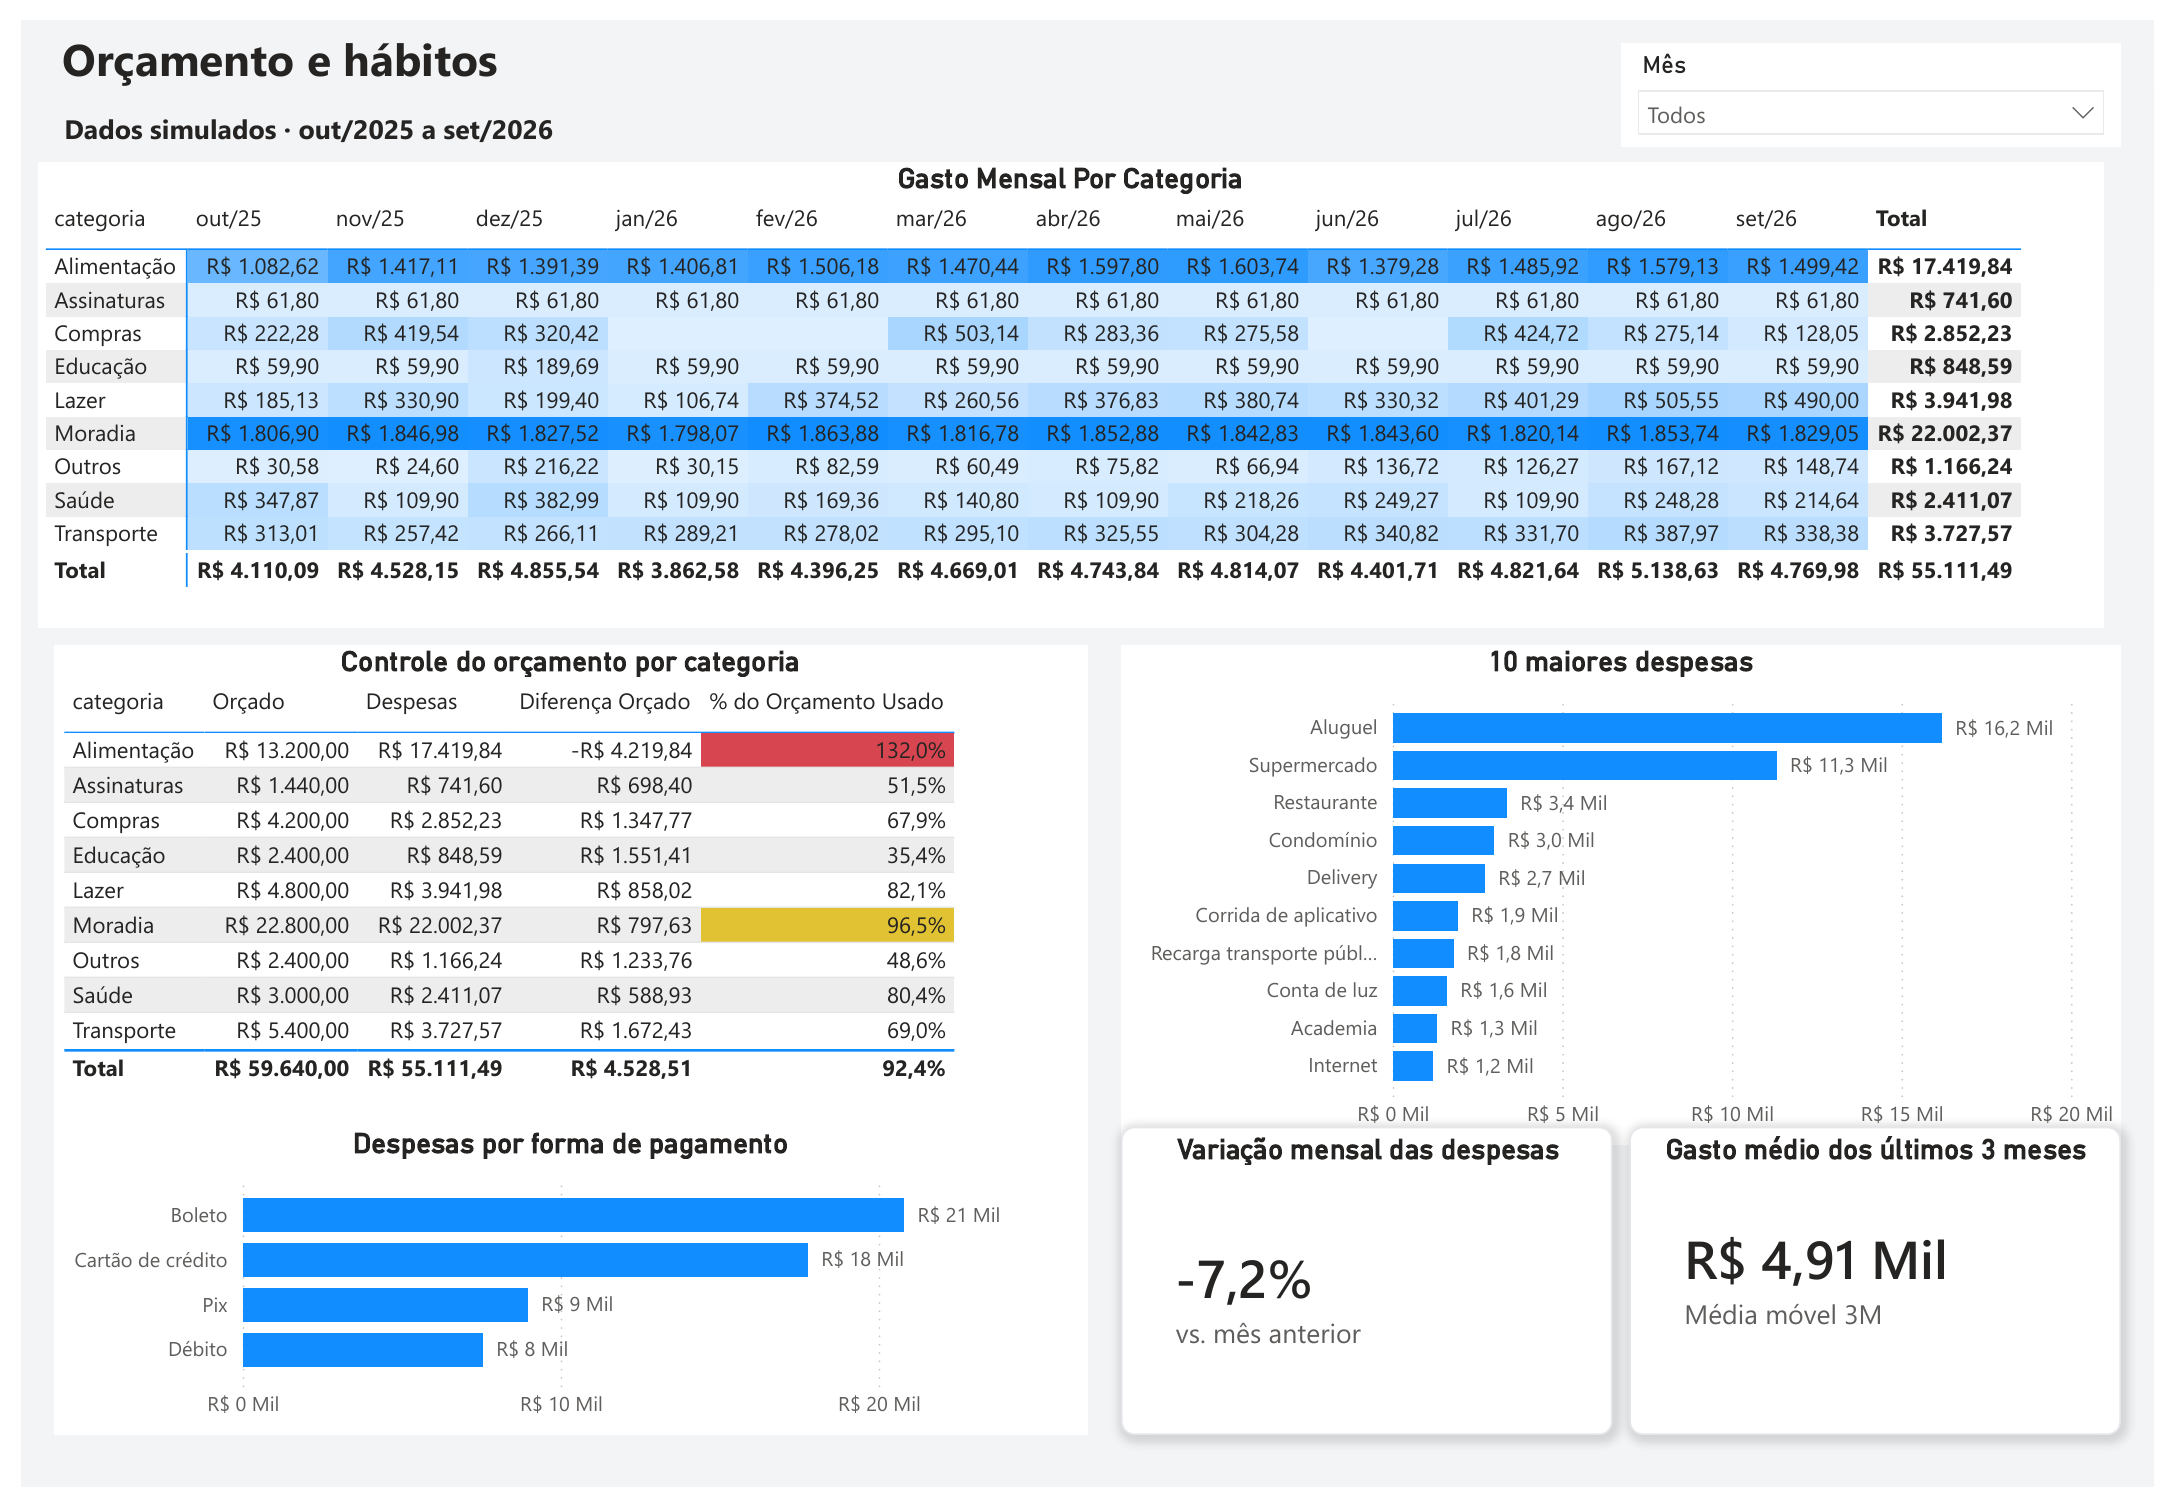

The dashboard page shown, as its layout file describes it:
{"tool":"powerbi","page":{"name":"Orçamento e hábitos","canvas":[1280,880],"ordinal":1},"visuals":[{"type":"pivotTable","title":"Gasto Mensal Por Categoria ","fields":{"Rows":["dim_categorias.categoria"],"Values":["fato_lancamentos.Despesas"],"Columns":["dim_calendario.Mês"]},"box":[10,85,1240,280],"z":0},{"type":"tableEx","title":"Controle do orçamento por categoria","fields":{"Values":["dim_categorias.categoria","fato_lancamentos.Orçado","fato_lancamentos.Despesas","fato_lancamentos.Diferença Orçado","fato_lancamentos.% do Orçamento Usado"]},"box":[20,375,620,300],"z":1000},{"type":"clusteredBarChart","title":"Despesas por forma de pagamento","fields":{"Category":["fato_lancamentos.forma_pagamento"],"Y":["fato_lancamentos.Despesas"]},"box":[20,664,620,185],"z":2000},{"type":"clusteredBarChart","title":"10 maiores despesas","fields":{"Category":["fato_lancamentos.descricao"],"Y":["fato_lancamentos.Despesas"]},"box":[660,375,600,300],"z":3000},{"type":"slicer","fields":{"Values":["dim_calendario.Mês"]},"box":[960,14,300,62],"z":4000},{"type":"cardVisual","title":"Variação mensal das despesas","fields":{"Data":["fato_lancamentos.Variação Despesas"]},"box":[660,664,295,185],"z":5000},{"type":"cardVisual","title":"Gasto médio dos últimos 3 meses","fields":{"Data":["fato_lancamentos.Média Móvel 3M Despesas"]},"box":[965,664,295,185],"z":6000},{"type":"textbox","box":[20,0,700,50],"z":7000},{"type":"textbox","box":[20.6,50.1,698.9,35.4],"z":8000}]}

Visuals, with their boxes in screenshot pixels (x1, y1, x2, y2), scaled from the page's 1280x880 canvas onto the 2175x1507 screenshot:
"Gasto Mensal Por Categoria " pivotTable: crop(17, 146, 2124, 625)
"Controle do orçamento por categoria" tableEx: crop(34, 642, 1088, 1156)
"Despesas por forma de pagamento" clusteredBarChart: crop(34, 1137, 1088, 1454)
"10 maiores despesas" clusteredBarChart: crop(1121, 642, 2141, 1156)
slicer - dim_calendario.Mês: crop(1631, 24, 2141, 130)
"Variação mensal das despesas" cardVisual: crop(1121, 1137, 1623, 1454)
"Gasto médio dos últimos 3 meses" cardVisual: crop(1640, 1137, 2141, 1454)
textbox: crop(34, 0, 1223, 86)
textbox: crop(35, 86, 1223, 146)
